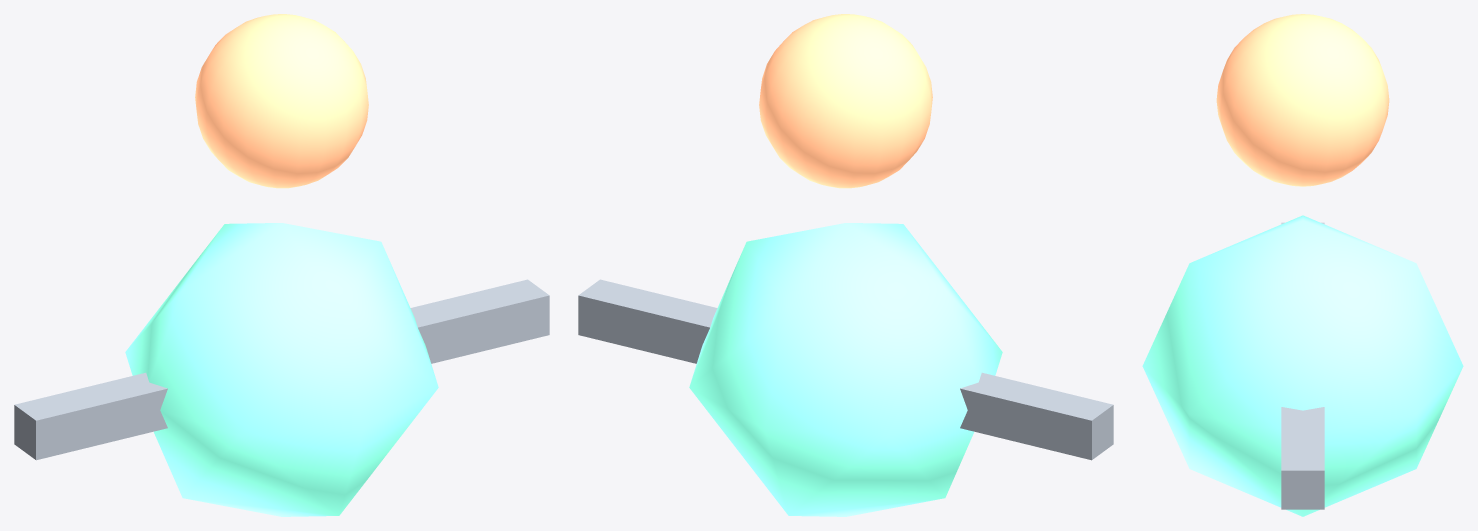
Rendered from crystal-lattice.glb.
The picture shows the model from 3 angles, left to right: view 1: azimuth 30°, elevation 25°; view 2: azimuth 150°, elevation 25°; view 3: azimuth 270°, elevation 25°; orthographic projection.
Parts seen in each view (by area): view 1: Central_Atom, Vertex_Ligand, Bond_Axis; view 2: Central_Atom, Vertex_Ligand, Bond_Axis; view 3: Central_Atom, Vertex_Ligand, Bond_Axis.
Boxes of the visible parts, x1=… form: Central_Atom: x1=125, y1=223, x2=438, y2=516; Vertex_Ligand: x1=195, y1=14, x2=368, y2=188; Bond_Axis: x1=14, y1=279, x2=549, y2=460; Central_Atom: x1=689, y1=223, x2=1002, y2=516; Vertex_Ligand: x1=759, y1=14, x2=932, y2=188; Bond_Axis: x1=578, y1=279, x2=1113, y2=460; Central_Atom: x1=1142, y1=215, x2=1463, y2=516; Vertex_Ligand: x1=1216, y1=14, x2=1389, y2=186; Bond_Axis: x1=1281, y1=222, x2=1324, y2=509.
Size of the model in its own units: 1.9 by 1.75 by 1.04.
